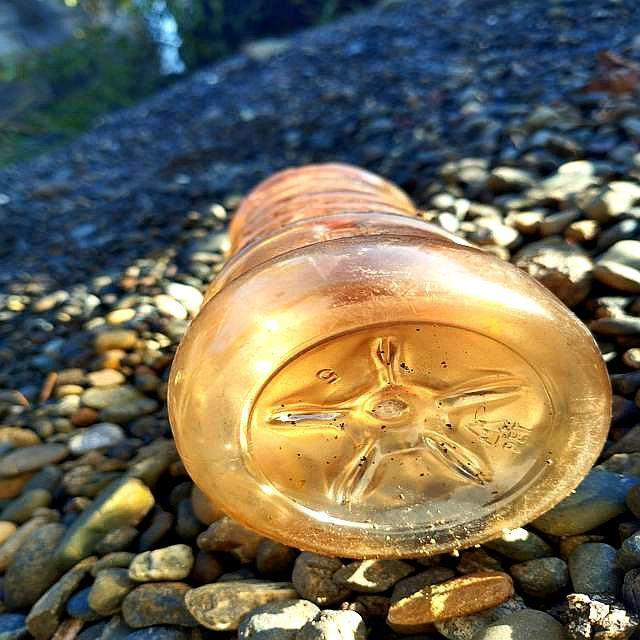Non-biodegradable: (167, 157, 609, 563)
